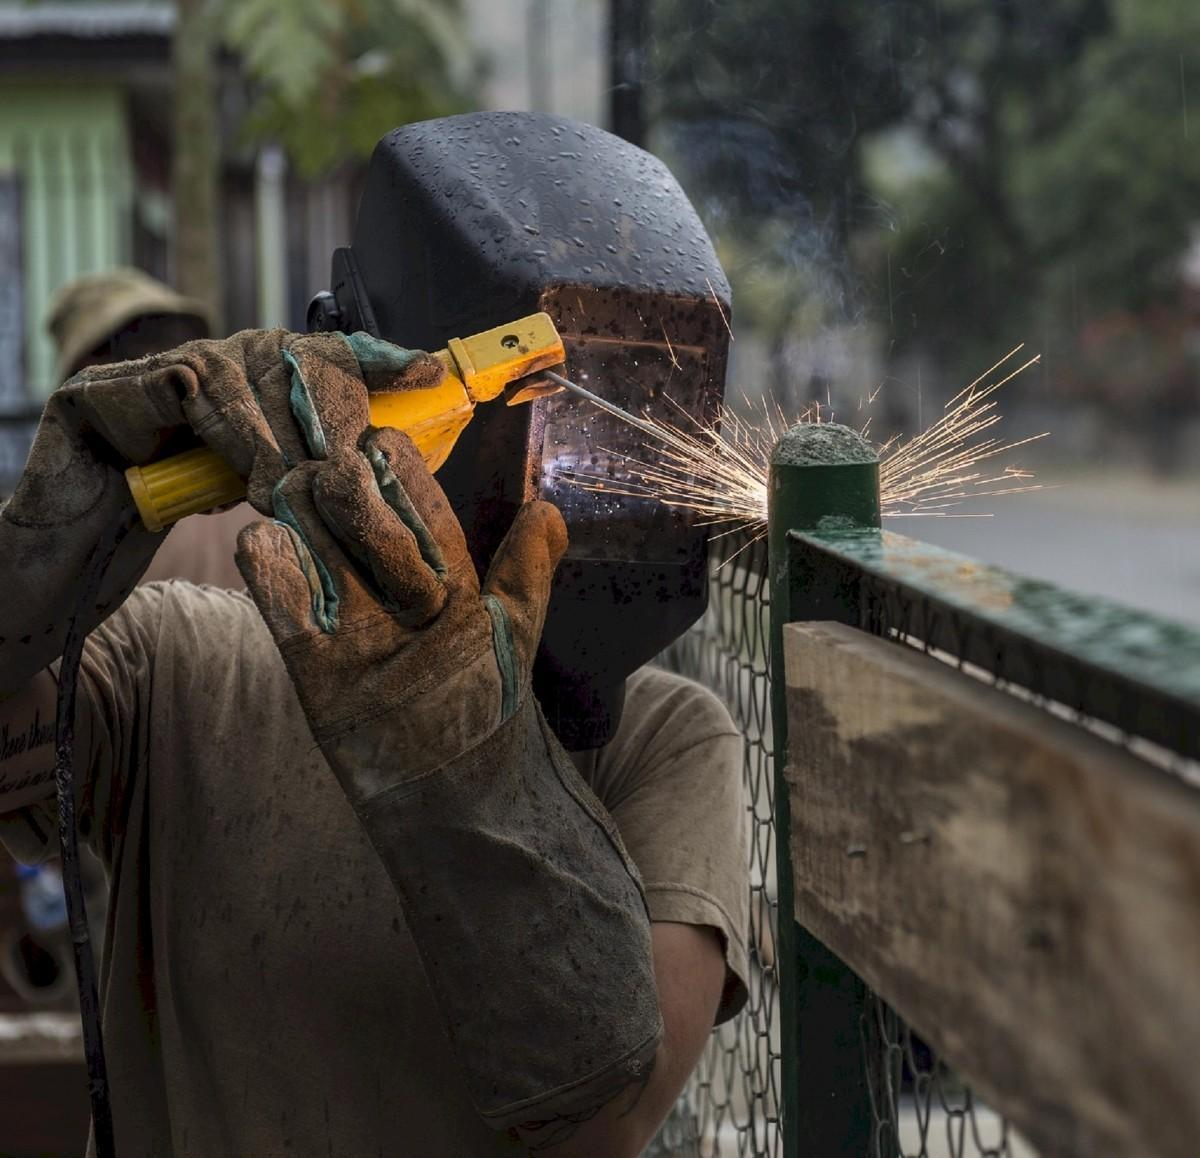Ear-protection: (18, 410, 795, 1152)
